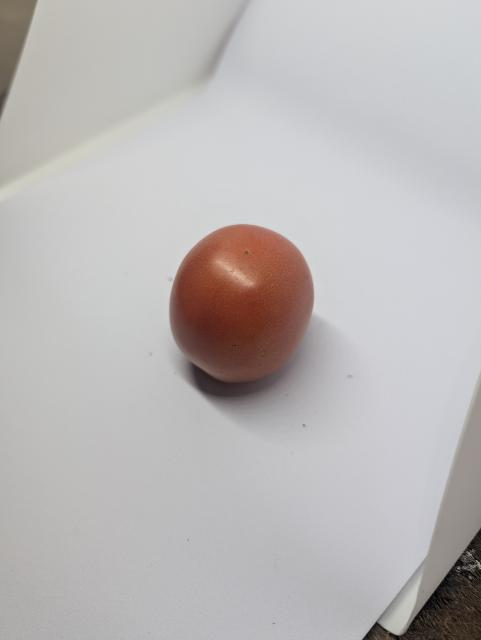red: (165, 221, 321, 391)
